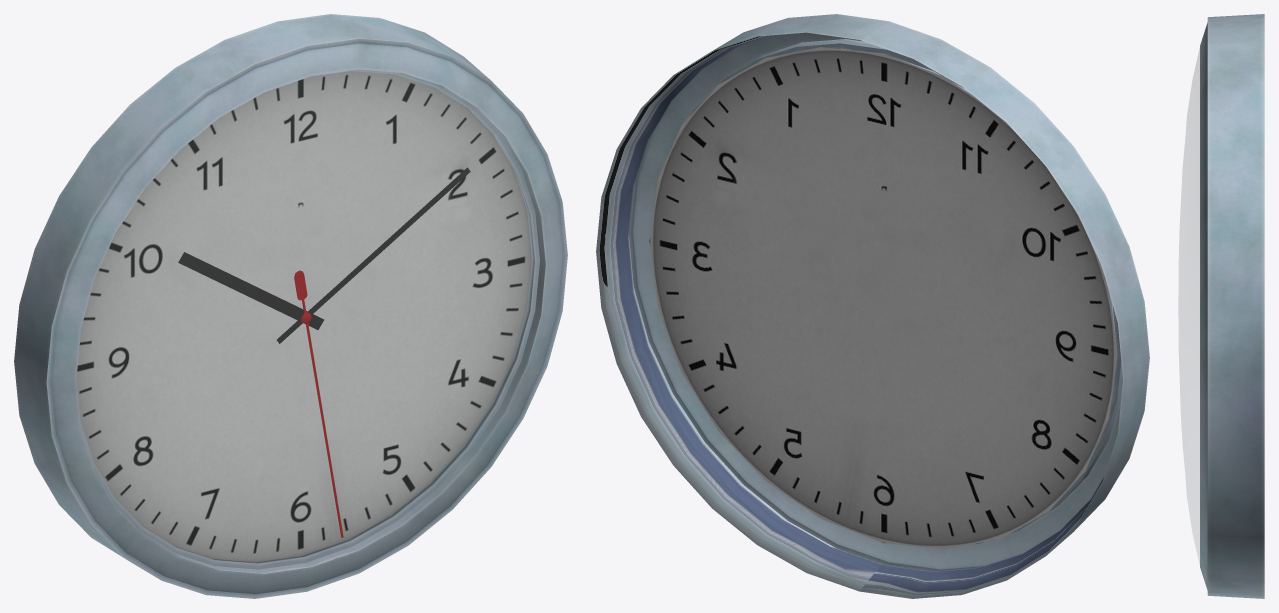
The model's file is WallClock_LOD1.obj.
The picture shows the model from 3 angles, left to right: view 1: azimuth 30°, elevation 25°; view 2: azimuth 150°, elevation 25°; view 3: azimuth 270°, elevation 25°; orthographic projection. The views are drawn at different scales.
Parts seen in each view (by area): view 1: Clock, Glass; view 2: Clock; view 3: Clock, Glass.
Part boxes in pixels (box(x1,y1,x2,y2)): Clock: box(14, 14, 567, 598); Glass: box(77, 70, 544, 573); Clock: box(596, 14, 1149, 598); Clock: box(1200, 14, 1264, 598); Glass: box(1178, 49, 1199, 563).
Bounding box in the file's own units: 0.3204 × 0.3204 × 0.0472.
Materials: 2 (1 with a texture image).
